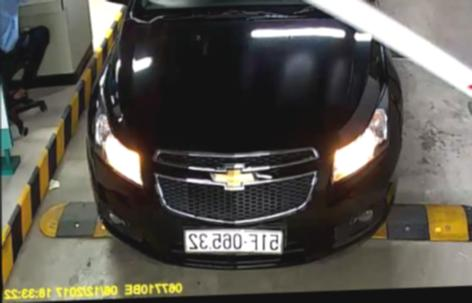License_Plate: (182, 220, 289, 261)
